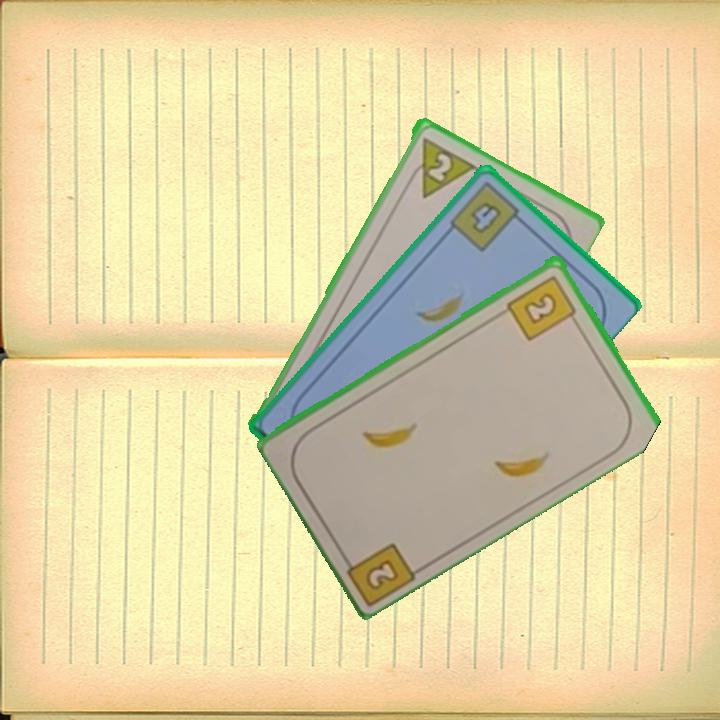2b: (503, 271, 581, 344), (337, 538, 420, 606)
2p: (403, 133, 476, 201)
4b: (446, 178, 528, 255)
